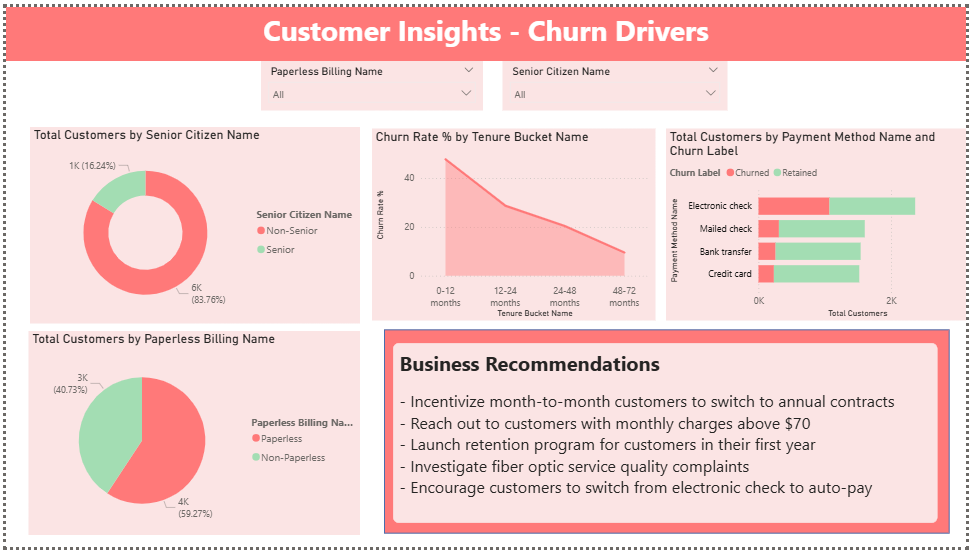

What the dashboard file says about the page in this screenshot:
{"tool":"powerbi","page":{"name":"Customer Insights","canvas":[1280,720],"ordinal":1},"visuals":[{"type":"shape","box":[504,430,754,272],"z":0},{"type":"textbox","box":[0,0,1280,72],"z":1000},{"type":"barChart","fields":{"Series":["churn_clean.Churn Label"],"Y":["churn_clean.Total Customers"],"Category":["churn_clean.Payment Method Name"]},"box":[880,162,400,256],"z":2000},{"type":"areaChart","fields":{"Y":["churn_clean.Churn Rate %"],"Category":["churn_clean.Tenure Bucket Name"]},"box":[488,162,378,256],"z":3000},{"type":"donutChart","fields":{"Category":["churn_clean.Senior Citizen Name"],"Y":["churn_clean.Total Customers"]},"box":[32,160,440,262],"z":4000},{"type":"pieChart","fields":{"Category":["churn_clean.Paperless Billing Name"],"Y":["churn_clean.Total Customers"]},"box":[30,432,442,272],"z":5000},{"type":"textbox","box":[516,448,726,240],"z":6000},{"type":"slicer","fields":{"Values":["churn_clean.Senior Citizen Name"]},"box":[662,72,300,66],"z":6001},{"type":"slicer","fields":{"Values":["churn_clean.Paperless Billing Name"]},"box":[340,72,296,66],"z":6002}]}

Visuals, with their boxes in screenshot pixels (x1, y1, x2, y2), scaled from the page's 1280x720 canvas onto the 969x551 screenshot:
shape: detection(382, 329, 952, 537)
textbox: detection(0, 0, 968, 55)
barChart - churn_clean.Churn Label x churn_clean.Total Customers: detection(666, 124, 968, 320)
areaChart - churn_clean.Churn Rate % x churn_clean.Tenure Bucket Name: detection(369, 124, 656, 320)
donutChart - churn_clean.Senior Citizen Name x churn_clean.Total Customers: detection(24, 122, 357, 323)
pieChart - churn_clean.Paperless Billing Name x churn_clean.Total Customers: detection(23, 331, 357, 539)
textbox: detection(391, 343, 940, 527)
slicer - churn_clean.Senior Citizen Name: detection(501, 55, 728, 106)
slicer - churn_clean.Paperless Billing Name: detection(257, 55, 481, 106)
